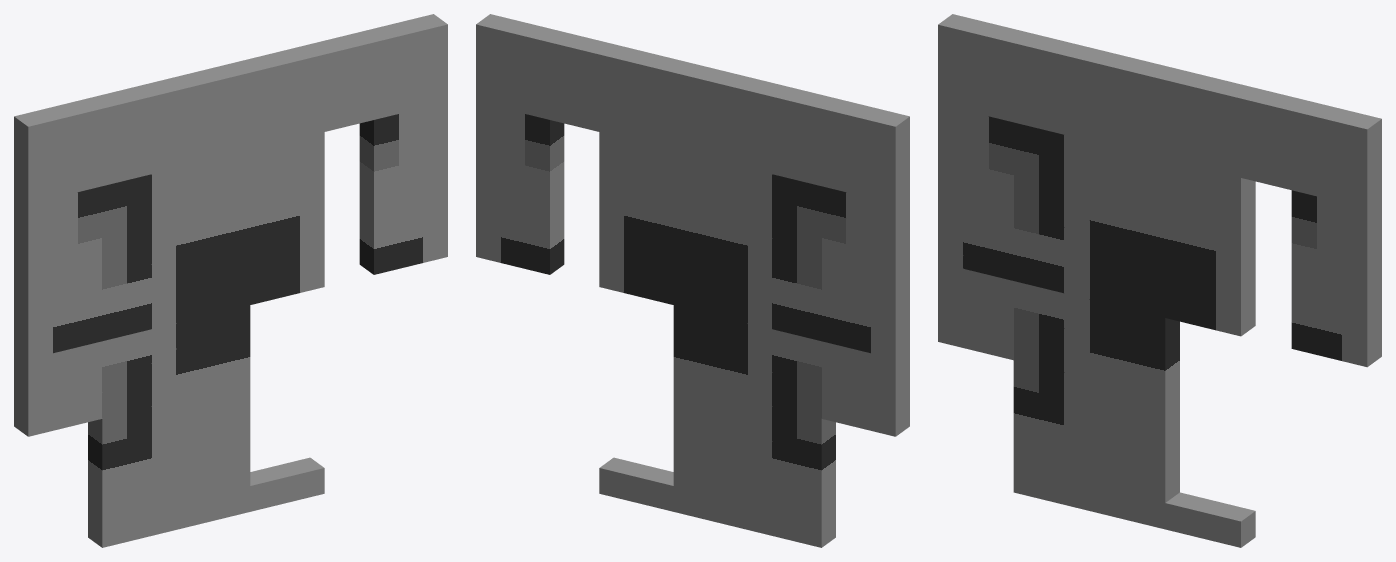
The model's file is ICON_BRK_Jazz_Hands.fbx.
3 views of the same model, side by side, from view 1: azimuth 30°, elevation 25°; view 2: azimuth 150°, elevation 25°; view 3: azimuth 330°, elevation 25° (orthographic). The views are drawn at different scales.
Parts seen in each view (by area): view 1: ICON_BRK_Jazz_Hands; view 2: ICON_BRK_Jazz_Hands; view 3: ICON_BRK_Jazz_Hands.
Boxes of the visible parts, x1,y1,x2,y2 form: ICON_BRK_Jazz_Hands: (14, 14, 447, 547); ICON_BRK_Jazz_Hands: (476, 14, 909, 547); ICON_BRK_Jazz_Hands: (938, 14, 1381, 547).
Bounding box in the file's own units: 17 × 17 × 1.
1 material, 1 textured.
